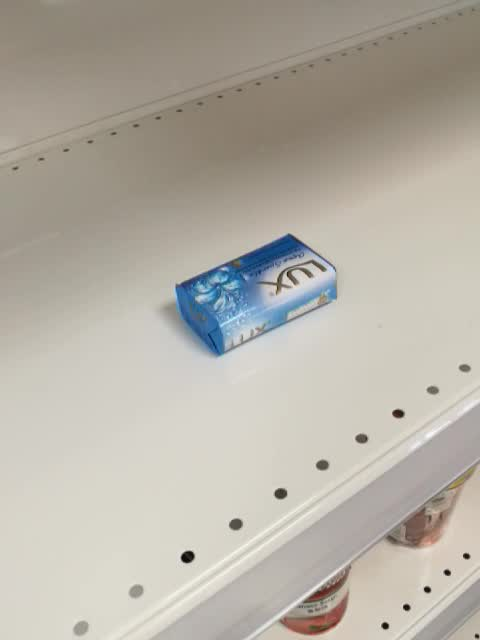soap: (173, 233, 339, 357)
